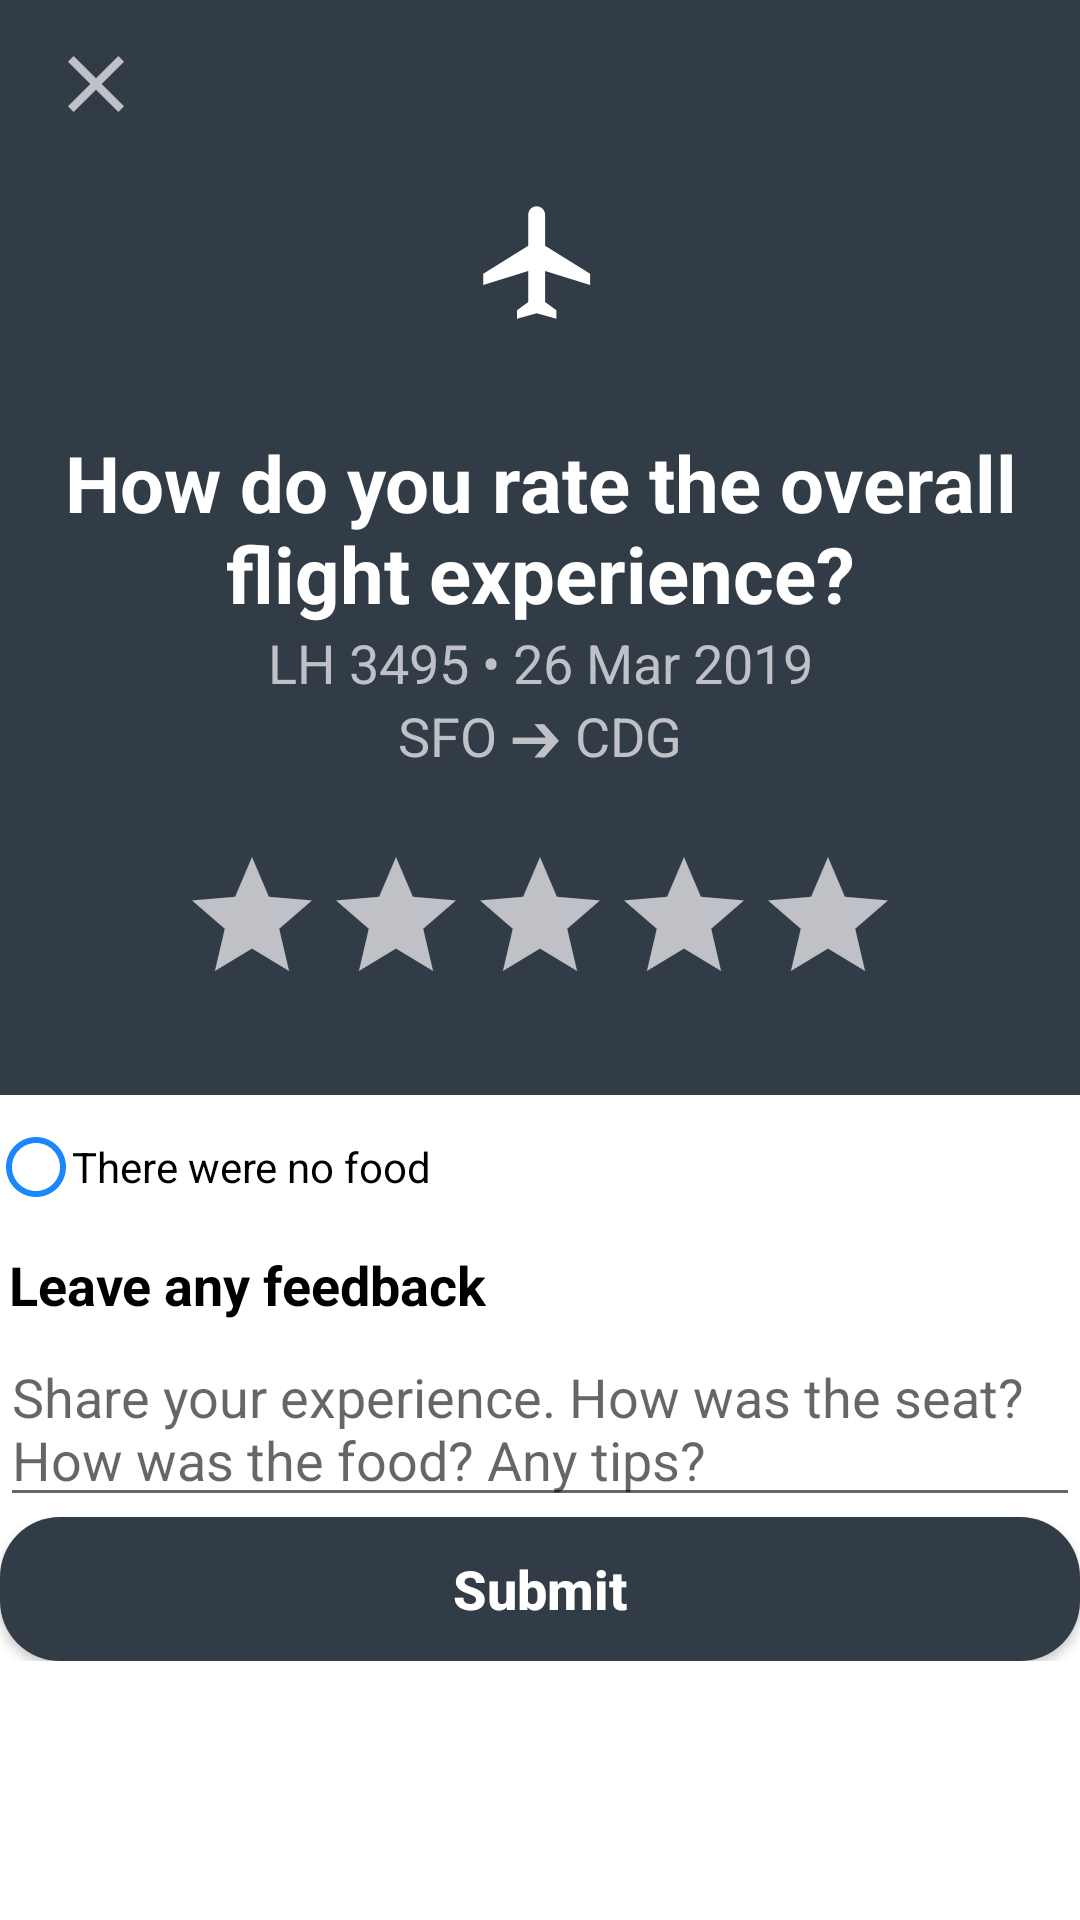

Screen size 1080*1920. Icon name, then its center in pixels as (x,y):
close: (96,84)
